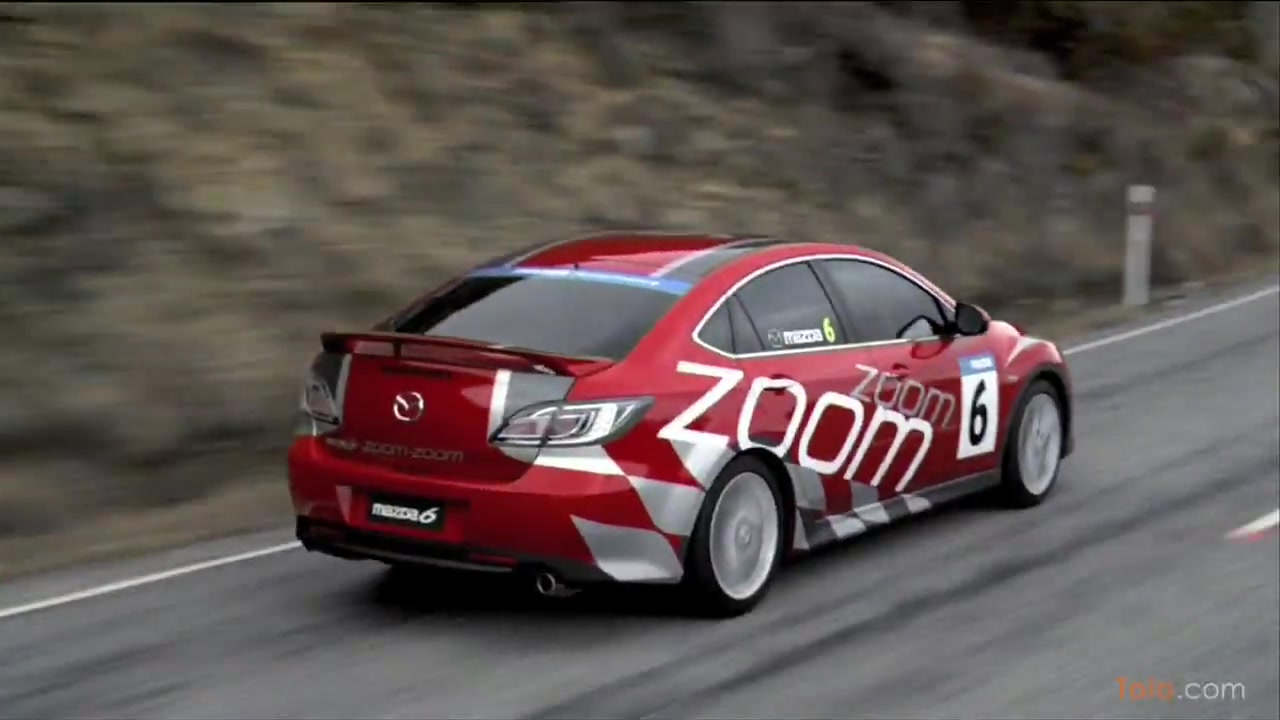car: (280, 228, 1078, 623)
